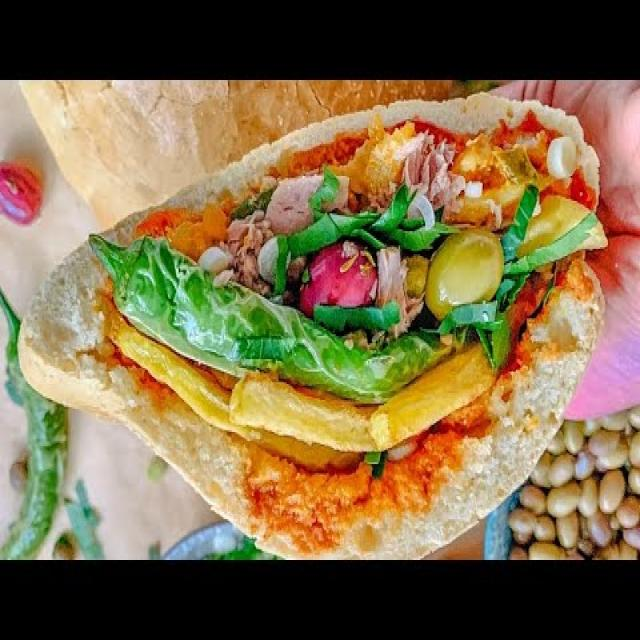Sandwitch tounsi: (20, 148, 597, 546)
